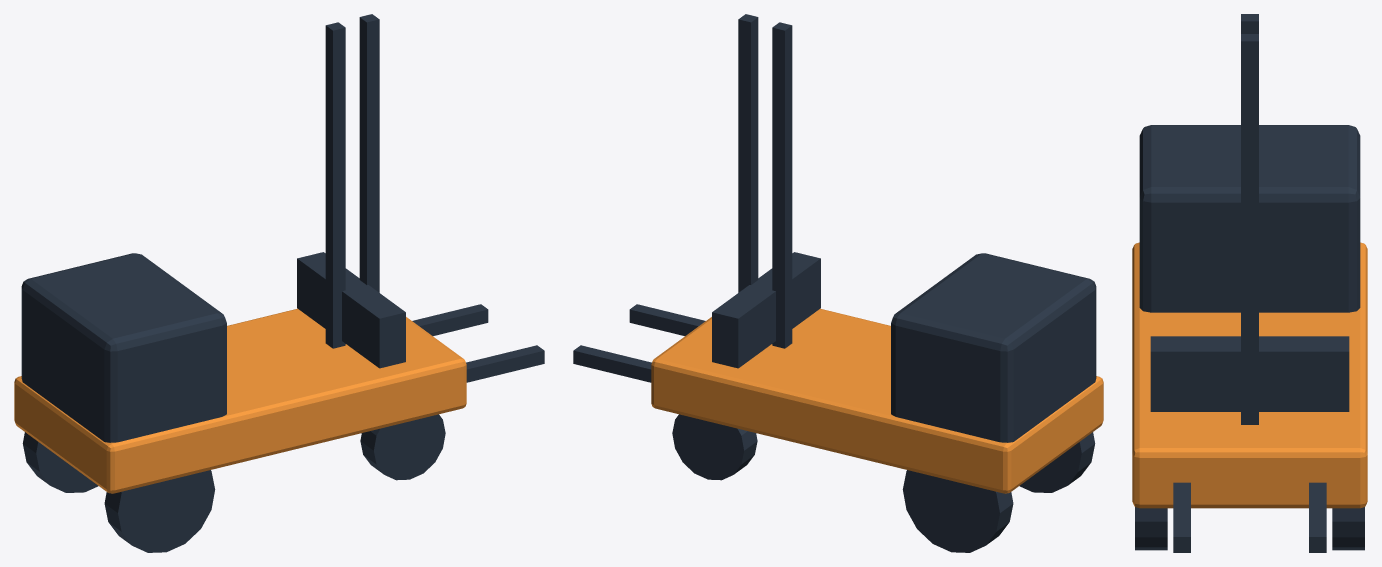
File: forklift-medium.glb
The picture shows the model from 3 angles, left to right: view 1: azimuth 30°, elevation 25°; view 2: azimuth 150°, elevation 25°; view 3: azimuth 270°, elevation 25°; orthographic projection. The views are drawn at different scales.
Parts seen in each view (by area): view 1: forklift_chassis, forklift_counterweight, forklift_mast, forklift_wheel, forklift_carriage, forklift_mast.001, forklift_wheel.002, forklift_wheel.001, forklift_fork, forklift_fork.001; view 2: forklift_chassis, forklift_counterweight, forklift_mast, forklift_wheel.001, forklift_carriage, forklift_mast.001, forklift_wheel.003, forklift_wheel, forklift_fork.001, forklift_fork; view 3: forklift_counterweight, forklift_chassis, forklift_carriage, forklift_mast.001, forklift_wheel.002, forklift_wheel.003, forklift_fork, forklift_fork.001, forklift_mast.
Boxes of the visible parts, bbox=[...] form: forklift_chassis: bbox=[14, 308, 466, 493]; forklift_counterweight: bbox=[21, 253, 226, 442]; forklift_mast: bbox=[325, 22, 345, 348]; forklift_wheel: bbox=[104, 470, 215, 552]; forklift_carriage: bbox=[297, 252, 405, 368]; forklift_mast.001: bbox=[359, 14, 379, 292]; forklift_wheel.002: bbox=[360, 414, 445, 480]; forklift_wheel.001: bbox=[22, 432, 98, 492]; forklift_fork: bbox=[466, 345, 544, 382]; forklift_fork.001: bbox=[412, 304, 488, 335]; forklift_chassis: bbox=[651, 308, 1103, 493]; forklift_counterweight: bbox=[891, 253, 1096, 442]; forklift_mast: bbox=[772, 22, 792, 348]; forklift_wheel.001: bbox=[902, 470, 1013, 552]; forklift_carriage: bbox=[712, 252, 820, 368]; forklift_mast.001: bbox=[738, 14, 758, 292]; forklift_wheel.003: bbox=[672, 414, 757, 480]; forklift_wheel: bbox=[1019, 432, 1095, 492]; forklift_fork.001: bbox=[573, 345, 651, 382]; forklift_fork: bbox=[629, 304, 705, 335]; forklift_counterweight: bbox=[1139, 125, 1360, 312]; forklift_chassis: bbox=[1132, 242, 1367, 508]; forklift_carriage: bbox=[1150, 336, 1349, 411]; forklift_mast.001: bbox=[1241, 34, 1258, 424]; forklift_wheel.002: bbox=[1135, 507, 1167, 550]; forklift_wheel.003: bbox=[1332, 507, 1364, 550]; forklift_fork: bbox=[1173, 482, 1190, 552]; forklift_fork.001: bbox=[1309, 482, 1326, 552]; forklift_mast: bbox=[1241, 14, 1258, 33].
Size of the model in its own units: 4.28 by 3.96 by 1.6.
